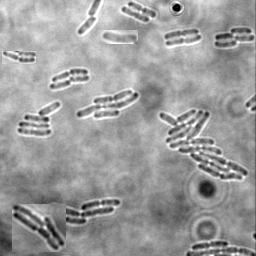Dividing: (52, 67, 89, 81), (128, 1, 157, 18), (166, 34, 202, 47), (2, 51, 36, 64), (164, 28, 200, 39), (192, 239, 229, 249)
Microcolony: (158, 109, 249, 180), (12, 204, 66, 252), (76, 88, 139, 119), (45, 199, 121, 224), (18, 101, 61, 136), (214, 27, 255, 48), (99, 30, 138, 44)
Rod: (121, 5, 150, 23), (78, 16, 99, 34), (50, 79, 72, 89), (69, 73, 90, 82)
